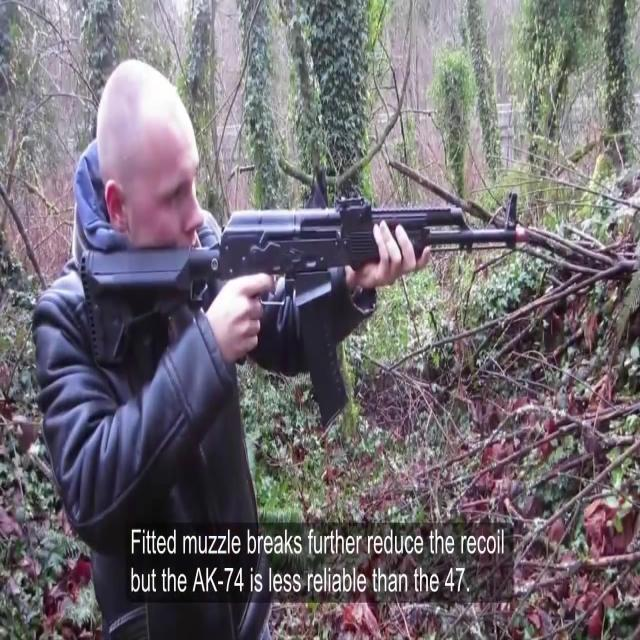Weapon: (62, 169, 544, 403)
